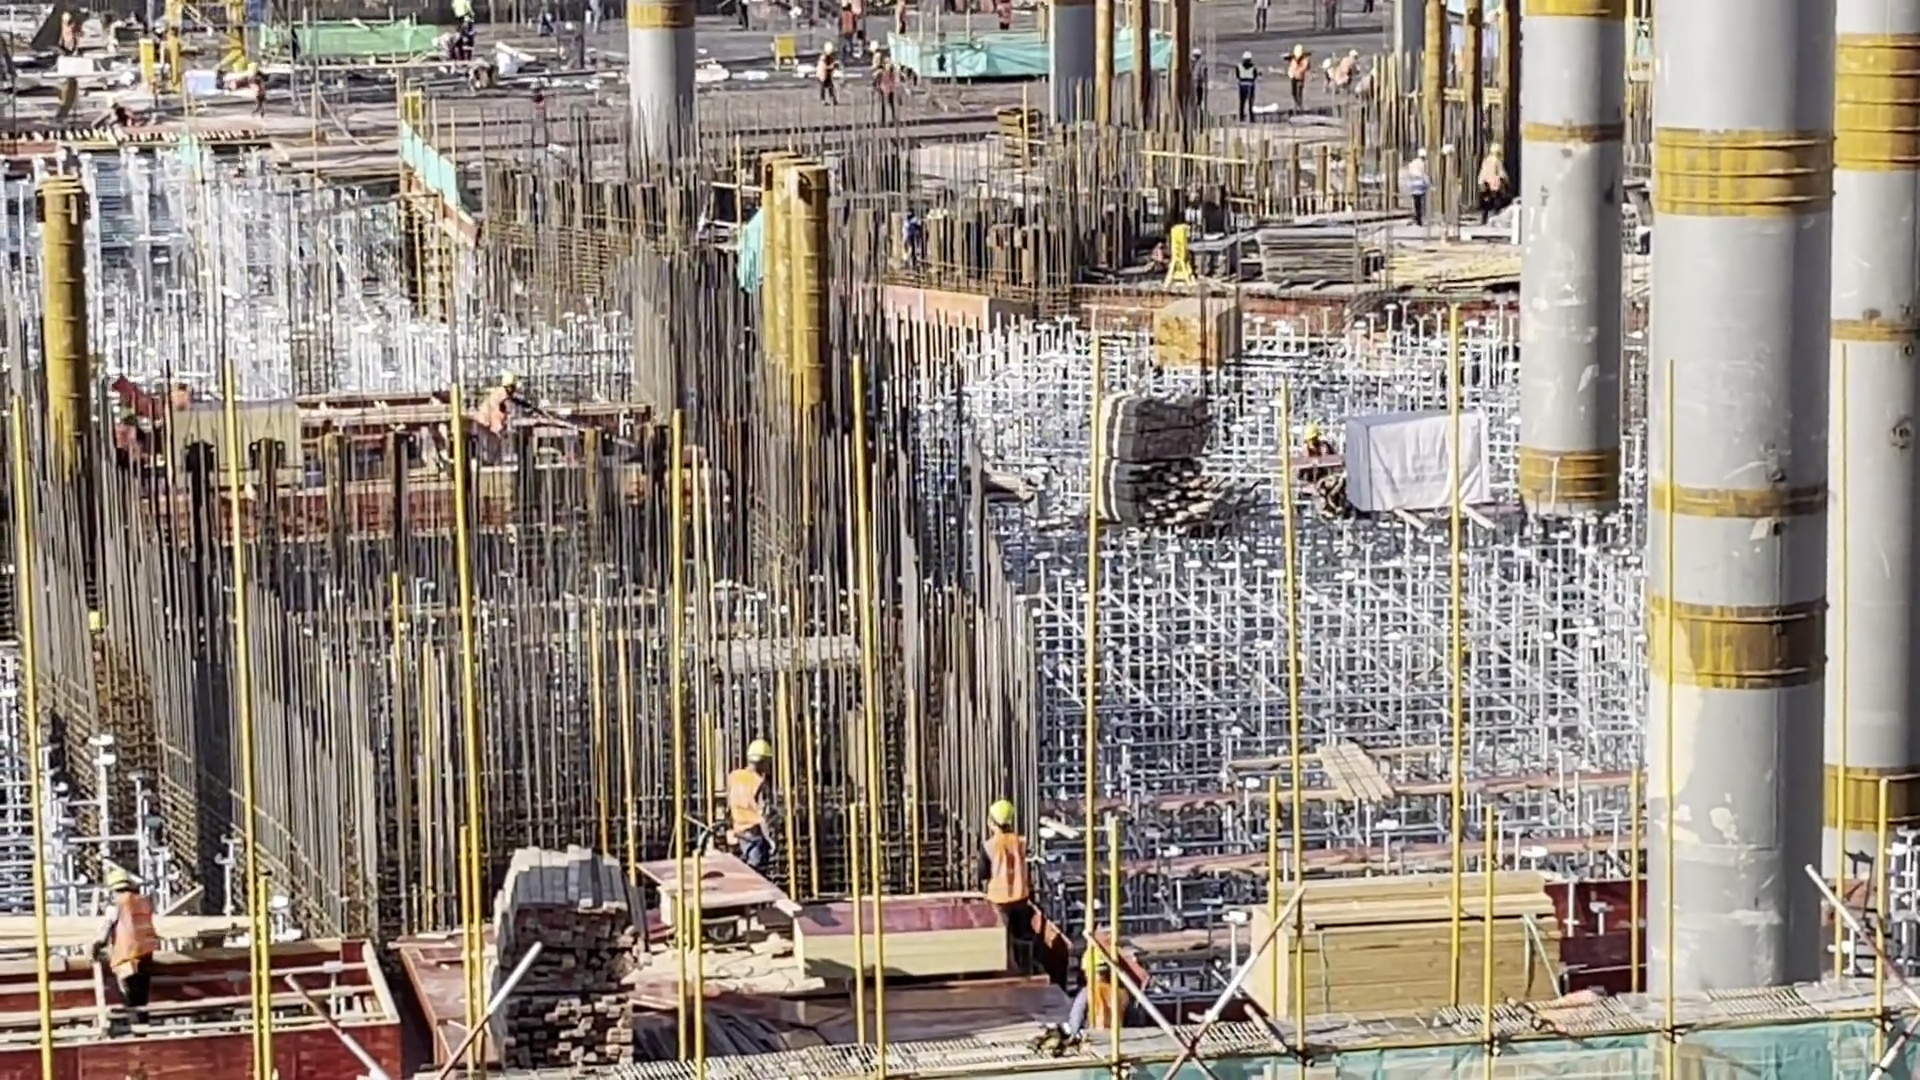helmet: (988, 801, 1016, 826), (745, 739, 776, 761), (101, 869, 133, 890), (501, 372, 518, 388), (868, 40, 881, 51), (822, 41, 833, 53)
person: (87, 869, 162, 1023), (974, 795, 1035, 978), (726, 739, 782, 867), (474, 371, 522, 463), (1477, 140, 1512, 221), (1404, 147, 1433, 225), (1280, 44, 1313, 112), (1235, 52, 1262, 125), (815, 42, 844, 106), (875, 61, 902, 120), (246, 67, 271, 121), (1318, 57, 1351, 94), (836, 1, 859, 57), (104, 97, 138, 128), (57, 12, 81, 53), (1250, 1, 1274, 34), (993, 1, 1017, 33), (585, 1, 611, 29), (867, 40, 885, 75), (1356, 70, 1375, 99), (1338, 46, 1363, 68), (891, 1, 909, 31), (1322, 1, 1339, 30), (1360, 1, 1377, 14)
vest: (104, 895, 162, 968), (985, 832, 1032, 907), (728, 768, 767, 837), (478, 387, 509, 436), (1288, 56, 1310, 80), (1237, 62, 1255, 85), (840, 11, 855, 35), (997, 3, 1012, 25)
